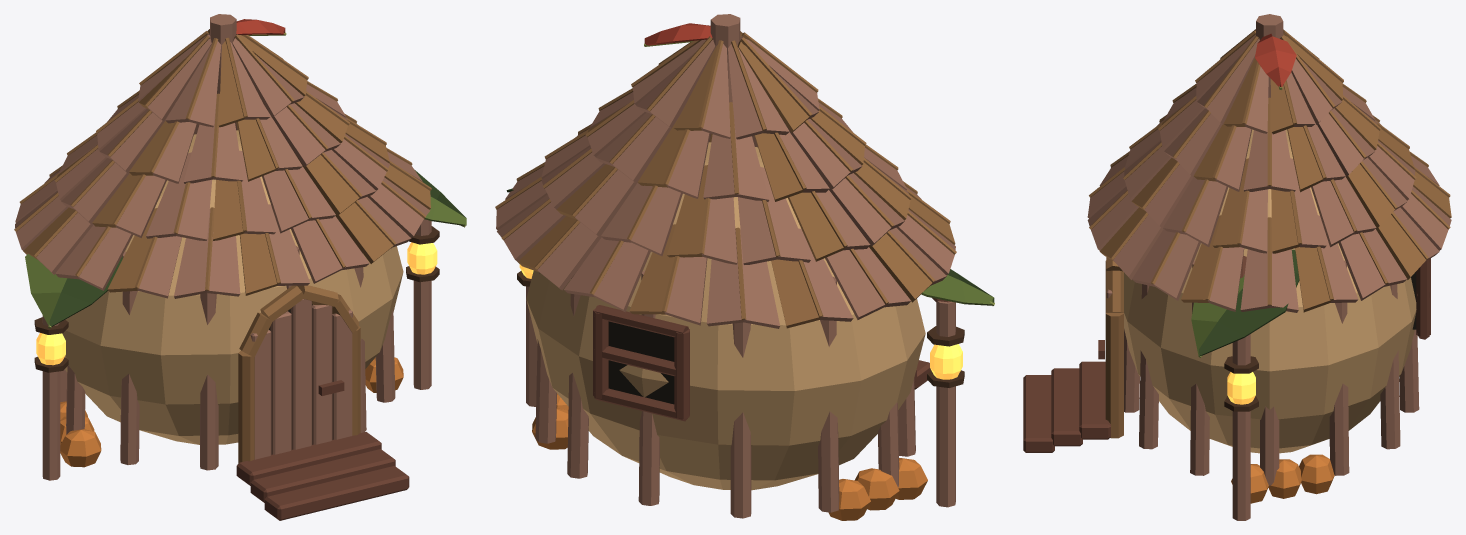
The picture shows the model from 3 angles, left to right: view 1: azimuth 30°, elevation 25°; view 2: azimuth 150°, elevation 25°; view 3: azimuth 270°, elevation 25°; orthographic projection. The views are drawn at different scales.
Parts seen in each view (by area): view 1: bark-cottage; view 2: bark-cottage; view 3: bark-cottage.
Boxes of the visible parts, left/top/right/bottom form: bark-cottage: left=14, top=14, right=466, bottom=520; bark-cottage: left=495, top=14, right=994, bottom=520; bark-cottage: left=1023, top=14, right=1451, bottom=520.
Bounding box in the file's own units: 5.23 × 4.9 × 4.59.
